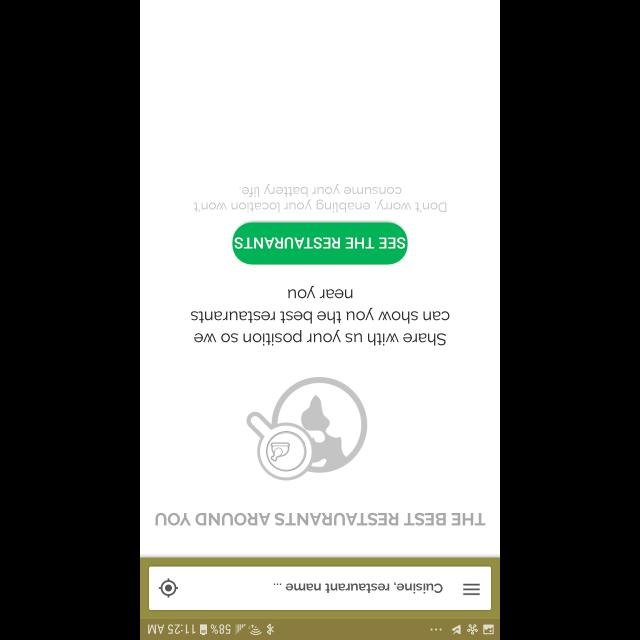icon: (246, 376, 368, 480), (158, 578, 178, 598), (462, 583, 480, 595)
input: (149, 566, 491, 610)
text: (190, 286, 450, 346), (194, 184, 446, 212), (155, 512, 485, 526), (274, 582, 442, 592)
textbutton: (232, 222, 408, 266)
uppertaskbar: (140, 618, 500, 640)
